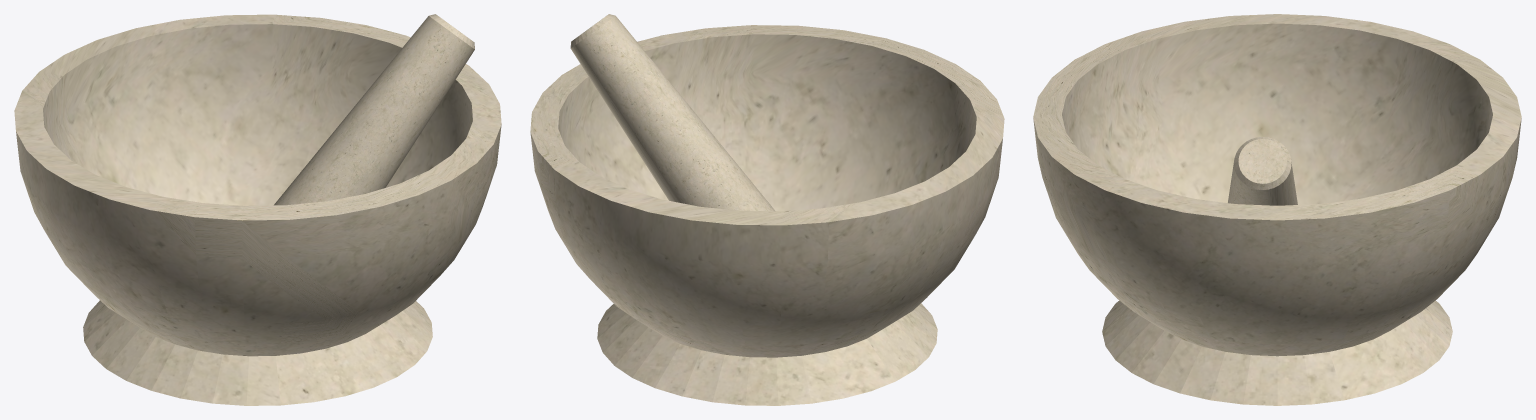
Rendered from Pestle and Mortar.FBX.
3 views of the same model, side by side, from view 1: azimuth 30°, elevation 25°; view 2: azimuth 150°, elevation 25°; view 3: azimuth 270°, elevation 25° (orthographic). The views are drawn at different scales.
Parts seen in each view (by area): view 1: Pestle, Mortar; view 2: Pestle, Mortar; view 3: Pestle, Mortar.
Part boxes in pixels (left/top/right/bottom): Pestle: left=14, top=14, right=501, bottom=405; Mortar: left=274, top=14, right=474, bottom=205; Pestle: left=530, top=25, right=1004, bottom=405; Mortar: left=570, top=14, right=775, bottom=211; Pestle: left=1033, top=14, right=1521, bottom=405; Mortar: left=1228, top=137, right=1297, bottom=205.
Size of the model in its own units: 6.69 by 4.2 by 6.69.
